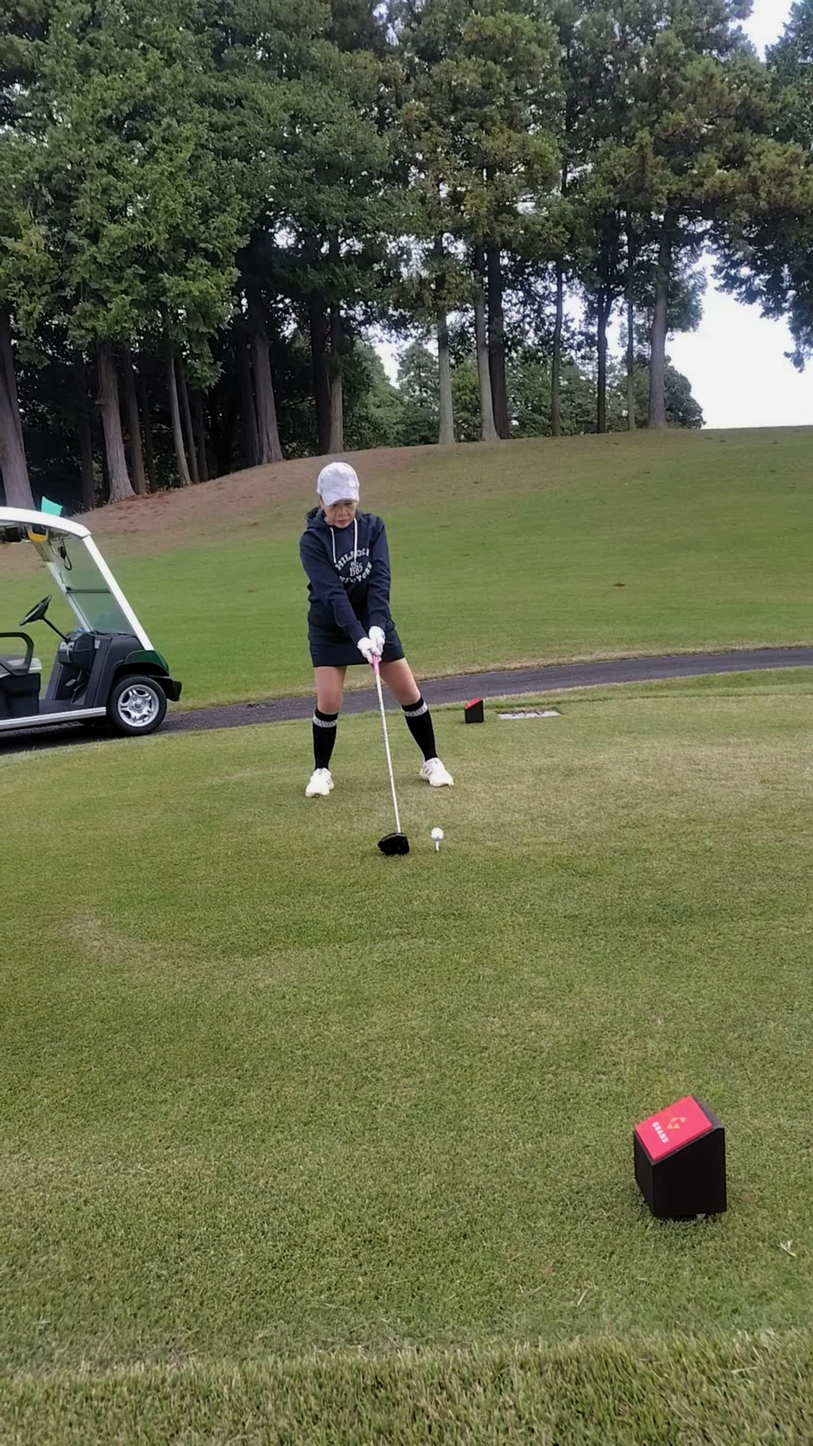clubhead: (321, 797, 495, 915)
